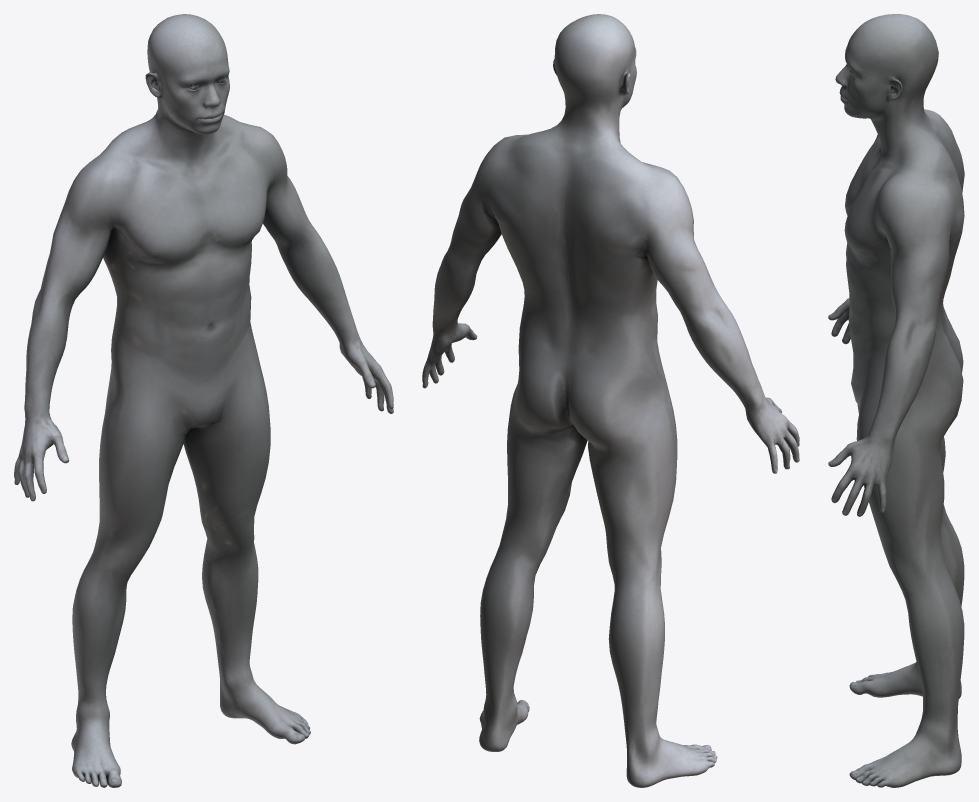
File: male.obj
3 renders of one model, left to right at view 1: azimuth 30°, elevation 25°; view 2: azimuth 150°, elevation 25°; view 3: azimuth 270°, elevation 25°, orthographic.
Parts seen in each view (by area): view 1: male; view 2: male; view 3: male.
Boxes of the visible parts, bbox=[...] form: male: bbox=[14, 14, 393, 787]; male: bbox=[422, 14, 799, 787]; male: bbox=[828, 14, 964, 787].
Bounding box in the file's own units: 0.8807 × 1.69 × 0.2904.
